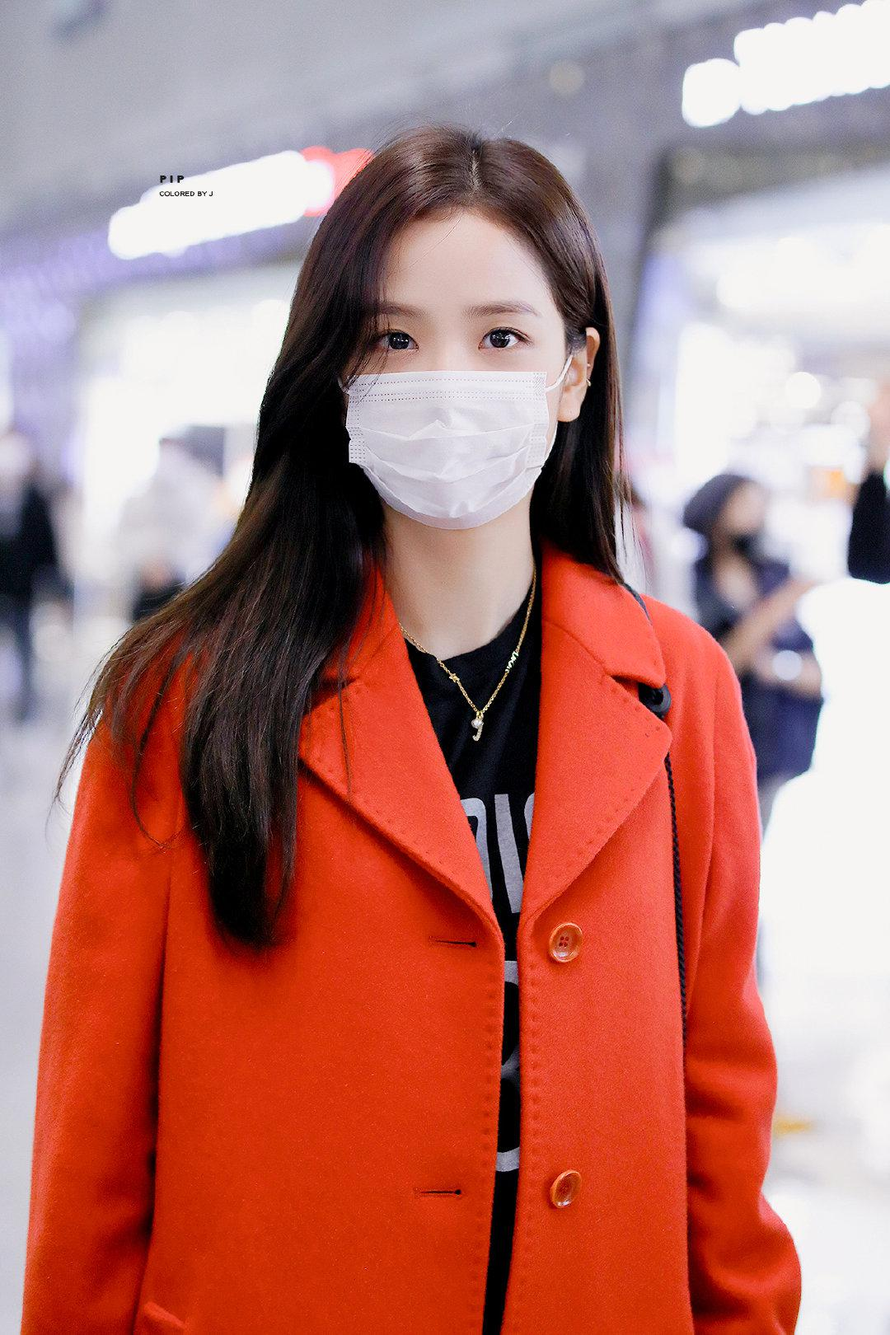OK: (347, 248, 559, 531)
